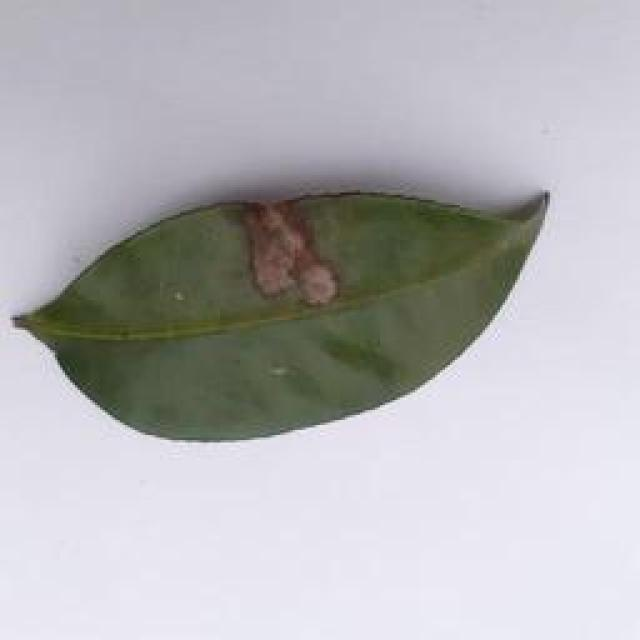Gray Blight: (0, 175, 558, 463)
